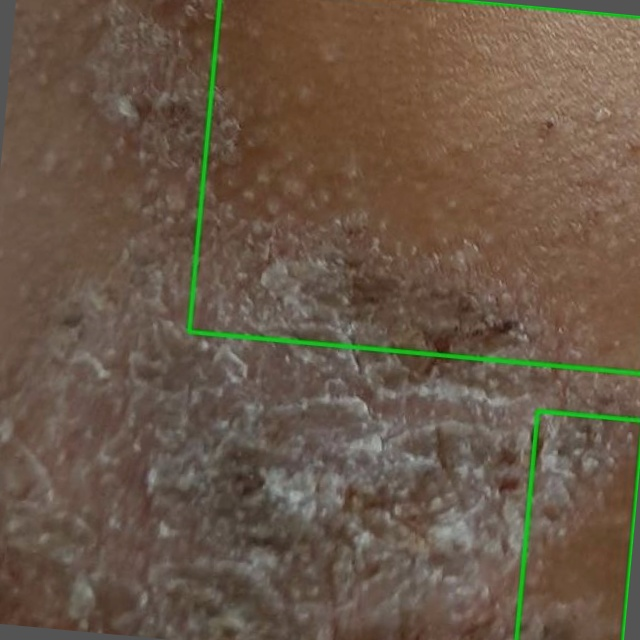Contact Dermatitis: (189, 0, 639, 373), (516, 411, 639, 639)
